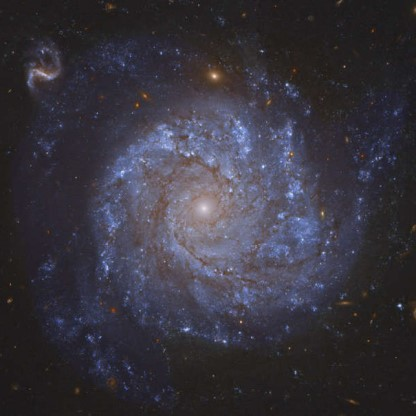NGC 1309: (20, 33, 367, 384)
